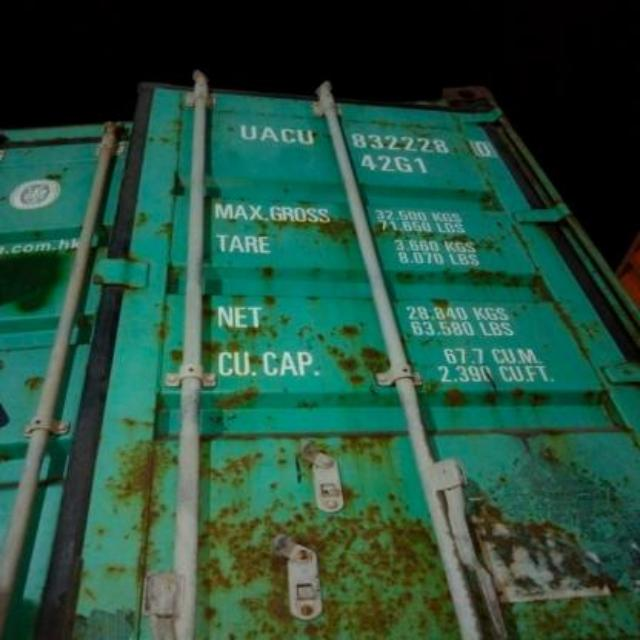0: (472, 136, 492, 160)
2: (399, 131, 417, 155), (418, 129, 432, 153), (384, 132, 400, 152)
3: (367, 128, 385, 152)
8: (434, 128, 448, 158), (349, 126, 365, 150)
A: (258, 122, 278, 144)
C: (279, 124, 297, 146)
U: (299, 126, 317, 150), (239, 122, 259, 142)
